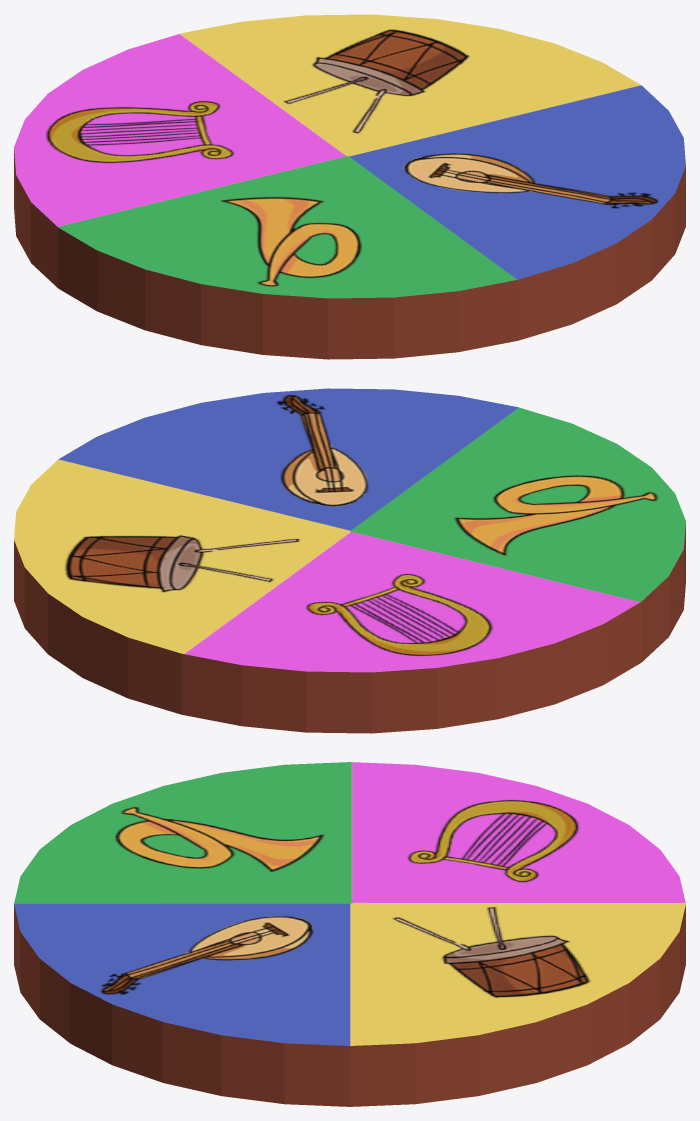
The model's file is new_wheel_model.fbx.
3 renders of one model, top to bottom at view 1: azimuth 30°, elevation 25°; view 2: azimuth 150°, elevation 25°; view 3: azimuth 270°, elevation 25°, orthographic.
Visible parts, largest first — view 1: Collider 5; view 2: Collider 5; view 3: Collider 5.
Boxes of the visible parts, x1,y1,x2,y2 form: Collider 5: (14,14,685,359); Collider 5: (14,388,685,733); Collider 5: (14,762,685,1106).
Bounding box in the file's own units: 200 × 20 × 200.
